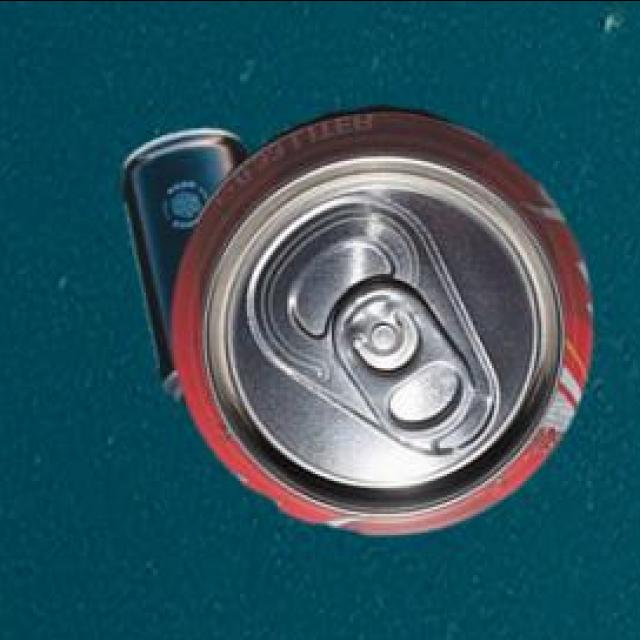logam: (175, 109, 596, 538), (126, 131, 253, 406)
